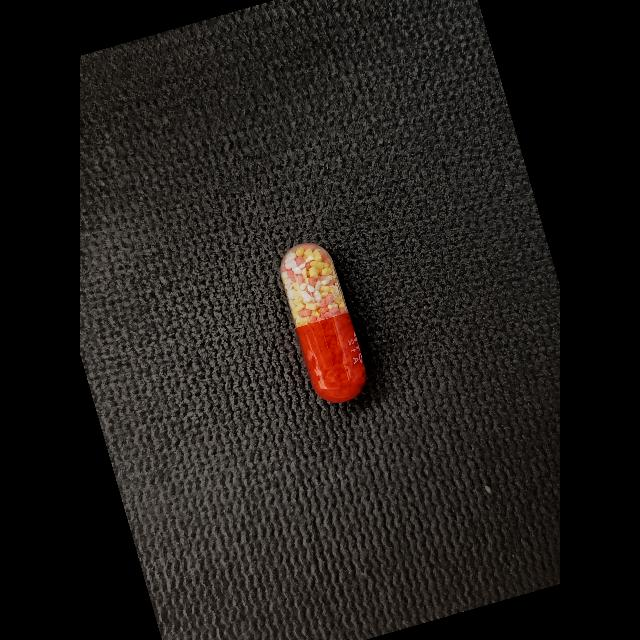Intact Capsule: (280, 243, 366, 403)
